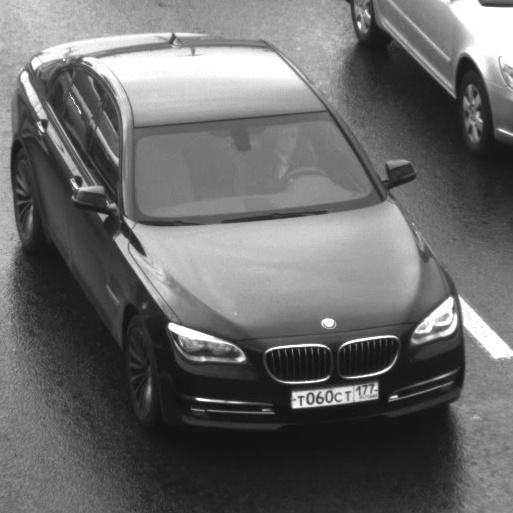plate: (280, 368, 390, 415)
